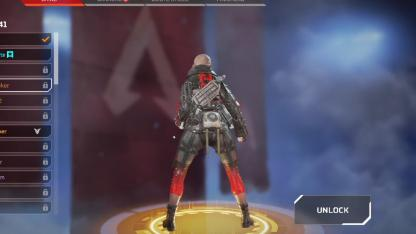Target: (179, 56, 235, 186)
